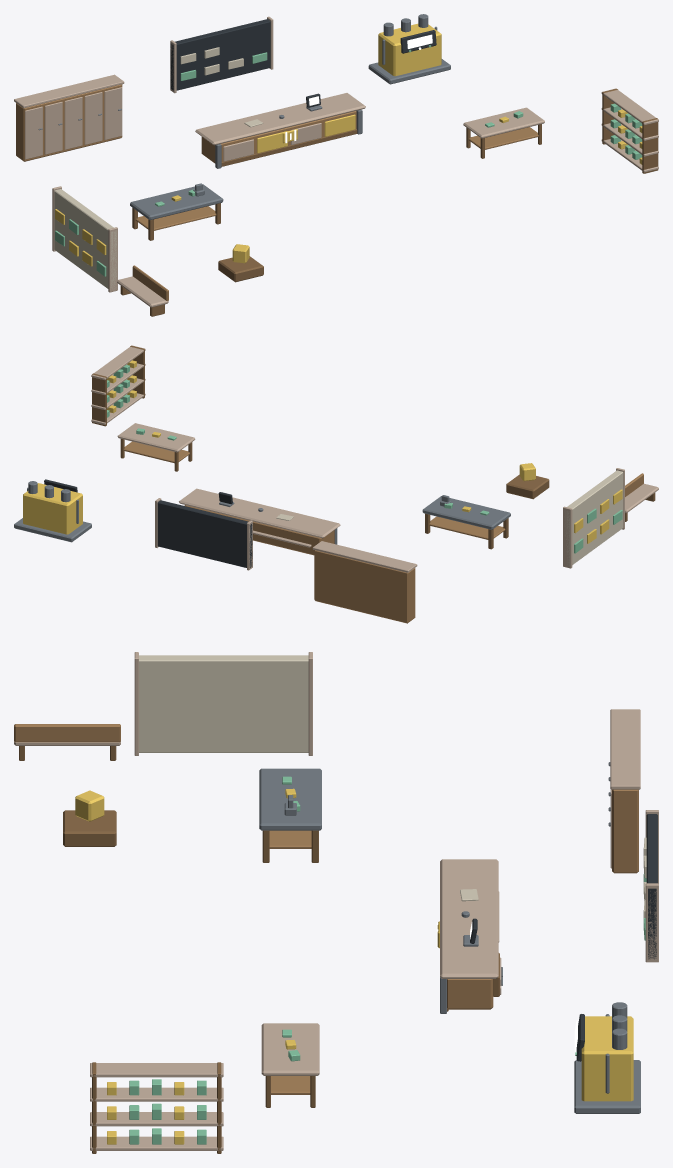
File: glassyard_biome_studio.glb
3 views of the same model, one above another, from view 1: azimuth 30°, elevation 25°; view 2: azimuth 150°, elevation 25°; view 3: azimuth 270°, elevation 25° (orthographic). The views are drawn at different scales.
Size of the model in its own units: 21.62 by 2.82 by 14.45.
